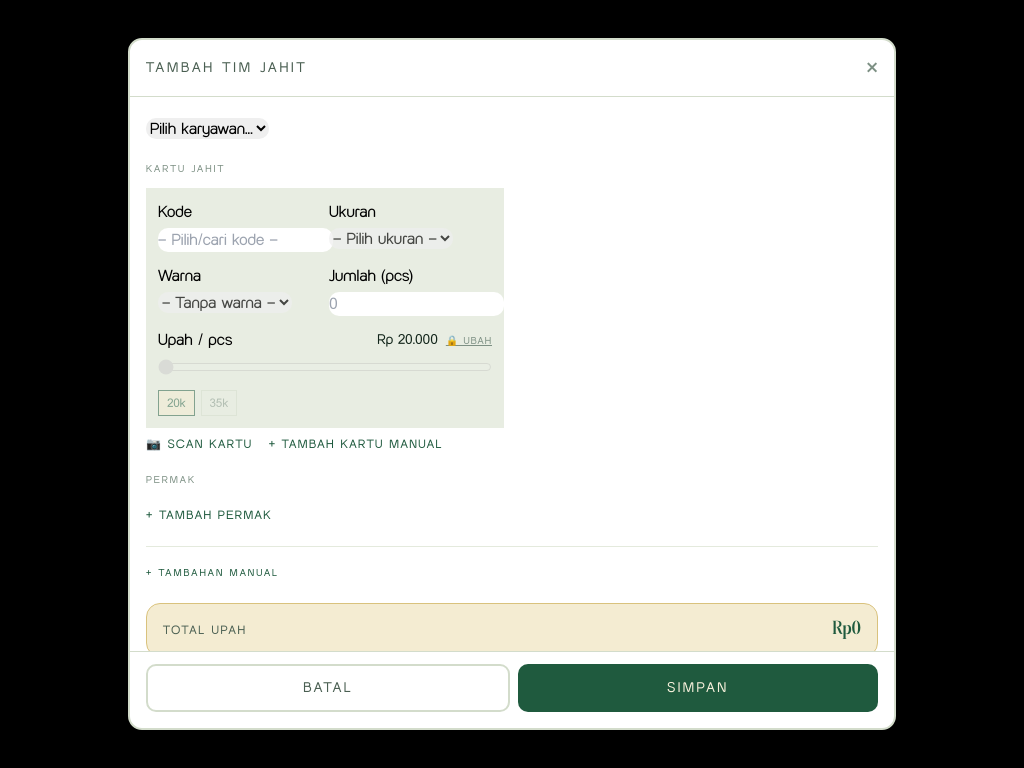
Test: JahitForm — auto-pilih ukuran kalau produk cuma punya 1 size (permintaan Denny 2026-08) › auto-selects the single size when a kode with exactly 1 variant is chosen
The image size is (1024, 768).
Type "D-02-SATU" into the field with test id "kode-input-0" at point(246, 240), box [158,228,333,252]
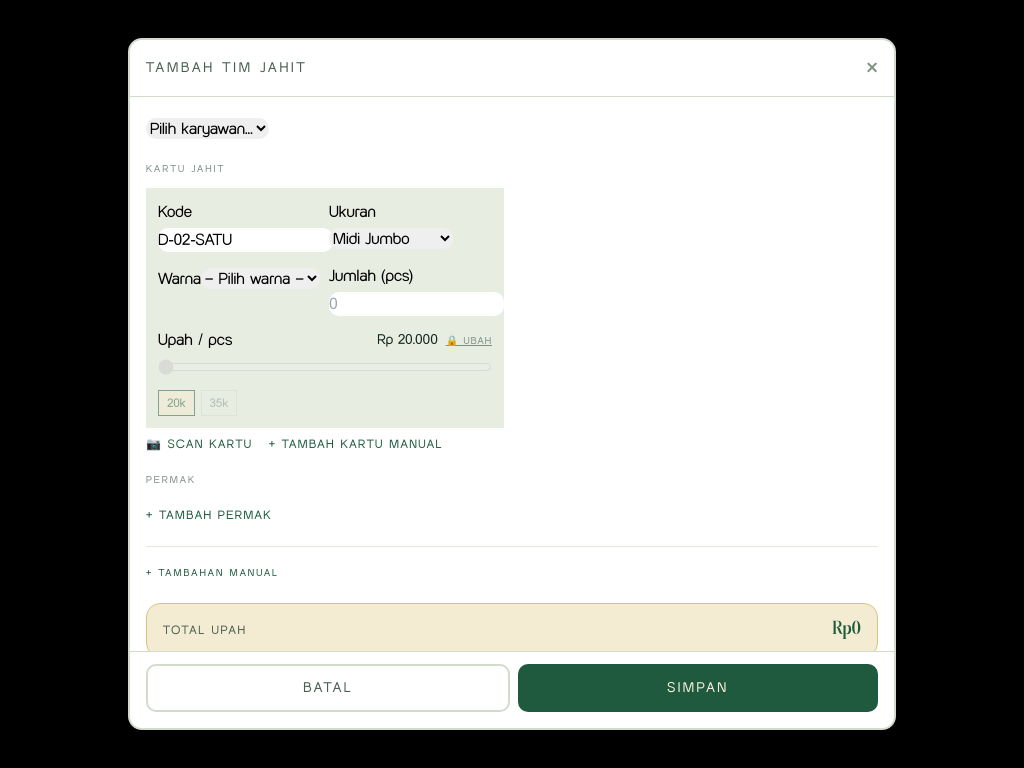
Result: the dropdown below "Ukuran" shows "Midi Jumbo" at [329,228,453,249]
